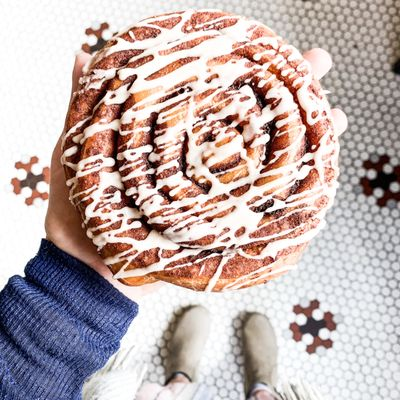sushi: (47, 5, 344, 296)
